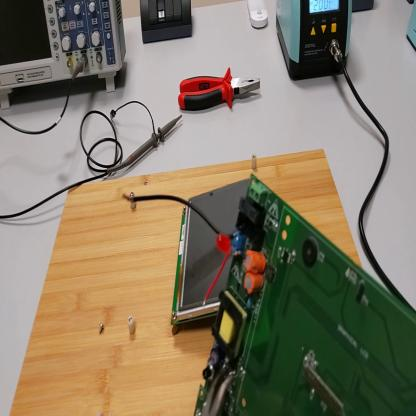low voltage board: (122, 174, 416, 416)
oscilloscope: (1, 3, 128, 113)
oscilloscope probe tip: (108, 116, 184, 175)
pliers: (180, 69, 261, 114)
socket: (352, 2, 377, 13)
welder base: (407, 5, 416, 52)
welder station: (278, 1, 353, 80)
working area: (10, 153, 363, 416)
